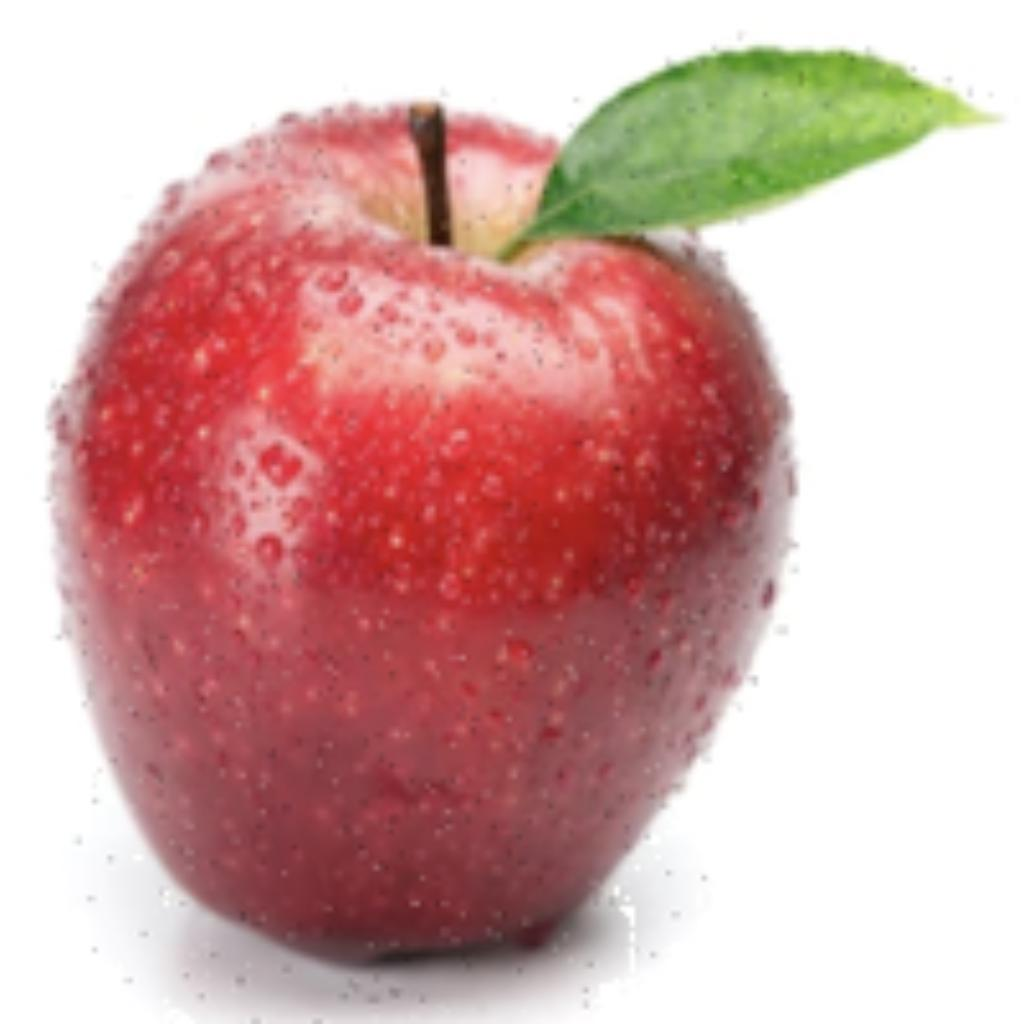apple: (36, 26, 1009, 1019)
